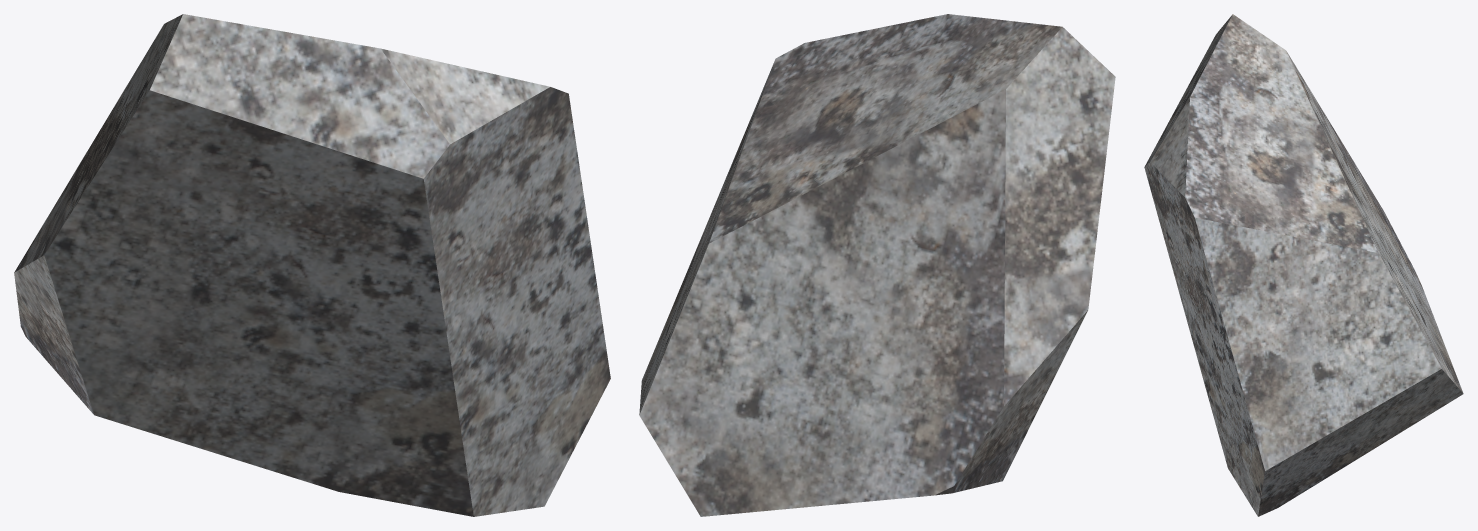
File: Asteroid_Large_001_02_009_03_012.fbx
3 views of the same model, side by side, from view 1: azimuth 30°, elevation 25°; view 2: azimuth 150°, elevation 25°; view 3: azimuth 270°, elevation 25° (orthographic). The views are drawn at different scales.
Visible parts, largest first — view 1: Asteroid_Large_001_02_009_03_012; view 2: Asteroid_Large_001_02_009_03_012; view 3: Asteroid_Large_001_02_009_03_012.
Boxes of the visible parts, x1,y1,x2,y2 form: Asteroid_Large_001_02_009_03_012: [14, 14, 610, 516]; Asteroid_Large_001_02_009_03_012: [639, 14, 1115, 516]; Asteroid_Large_001_02_009_03_012: [1144, 14, 1463, 516].
Bounding box in the file's own units: 11.97 × 12.78 × 9.63.
